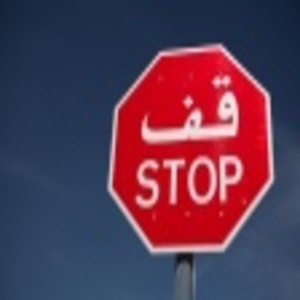stop: (109, 44, 278, 256)
